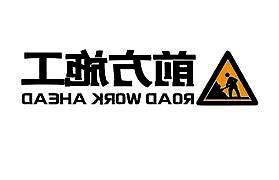sign: (21, 48, 259, 109)
